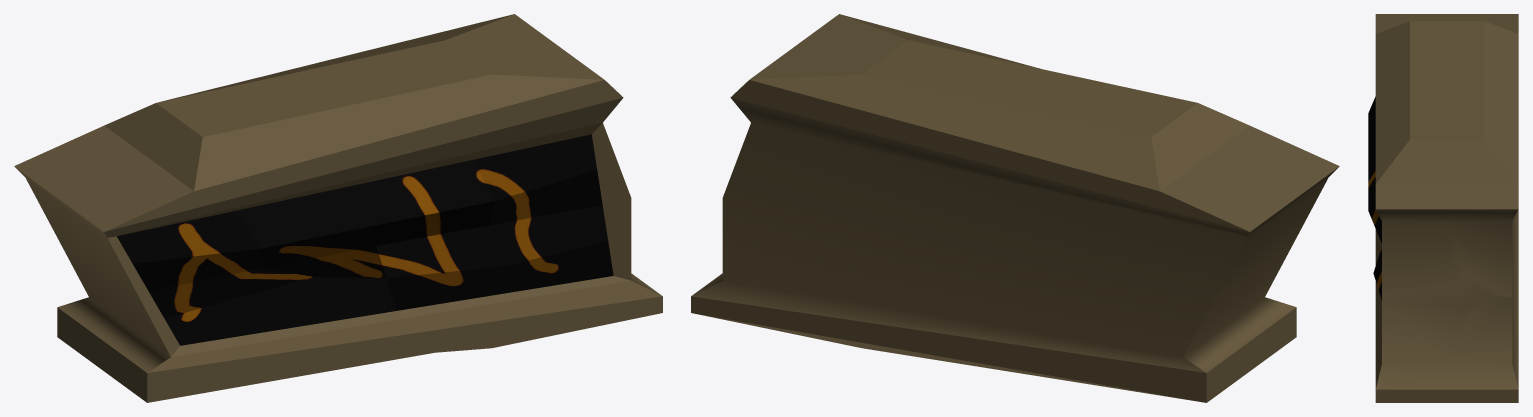
File: Bad Seal.fbx
3 renders of one model, left to right at view 1: azimuth 30°, elevation 25°; view 2: azimuth 150°, elevation 25°; view 3: azimuth 270°, elevation 25°, orthographic. The views are drawn at different scales.
Visible parts, largest first — view 1: pCube1; view 2: pCube1; view 3: pCube1.
Boxes of the visible parts, bbox=[...] form: pCube1: bbox=[14, 14, 662, 402]; pCube1: bbox=[691, 14, 1339, 402]; pCube1: bbox=[1368, 14, 1518, 402].
Size of the model in its own units: 19.69 by 9.48 by 5.77.
Materials: 2 (1 with a texture image).
